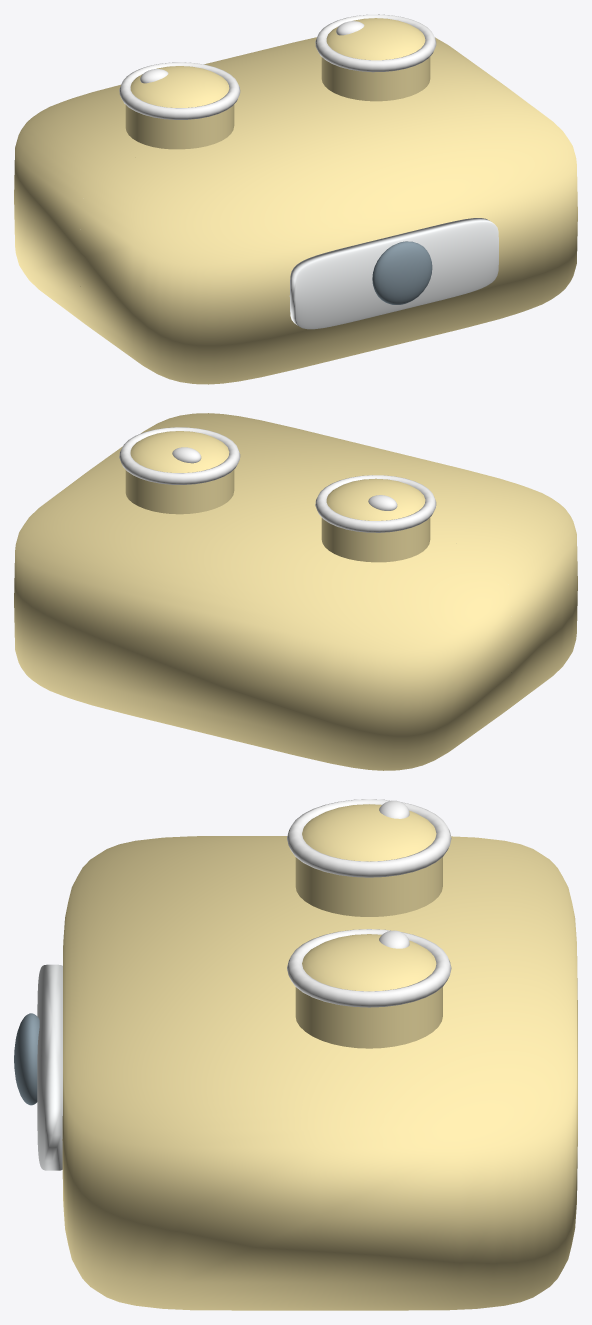
File: block-yellow.glb
3 renders of one model, top to bottom at view 1: azimuth 30°, elevation 25°; view 2: azimuth 150°, elevation 25°; view 3: azimuth 270°, elevation 25°, orthographic. The views are drawn at different scales.
Parts seen in each view (by area): view 1: single molded rounded body, front inset panel, top peg body (×2), rounded peg cap (×2), peg bevel ring (×2), front dot; view 2: single molded rounded body, top peg body (×2), rounded peg cap (×2), peg bevel ring (×2); view 3: single molded rounded body, top peg body (×2), rounded peg cap (×2), peg bevel ring (×2), front inset panel, front dot.
Part boxes in pixels (<box>): single molded rounded body: <box>14,37,577,384</box>; front inset panel: <box>289,218,498,329</box>; top peg body (×2): <box>125,57,430,149</box>; rounded peg cap (×2): <box>130,18,425,107</box>; peg bevel ring (×2): <box>119,14,436,119</box>; front dot: <box>372,241,432,304</box>; single molded rounded body: <box>14,413,577,770</box>; top peg body (×2): <box>125,470,430,562</box>; rounded peg cap (×2): <box>130,431,425,520</box>; peg bevel ring (×2): <box>119,427,436,532</box>; single molded rounded body: <box>62,836,577,1310</box>; top peg body (×2): <box>295,857,442,1048</box>; rounded peg cap (×2): <box>302,804,436,991</box>; peg bevel ring (×2): <box>287,799,451,1007</box>; front inset panel: <box>37,964,62,1170</box>; front dot: <box>14,1013,39,1105</box>.
Bounding box in the file's own units: 1.1 × 0.568 × 0.9176.
